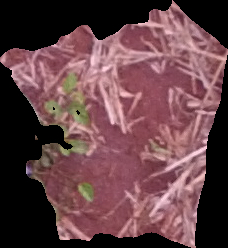soil: (1, 1, 228, 247)
